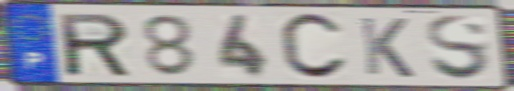4: (216, 13, 272, 80)
8: (139, 13, 197, 79)
C: (276, 11, 351, 82)
K: (356, 15, 417, 80)
R: (55, 11, 134, 79)
S: (423, 13, 494, 83)
